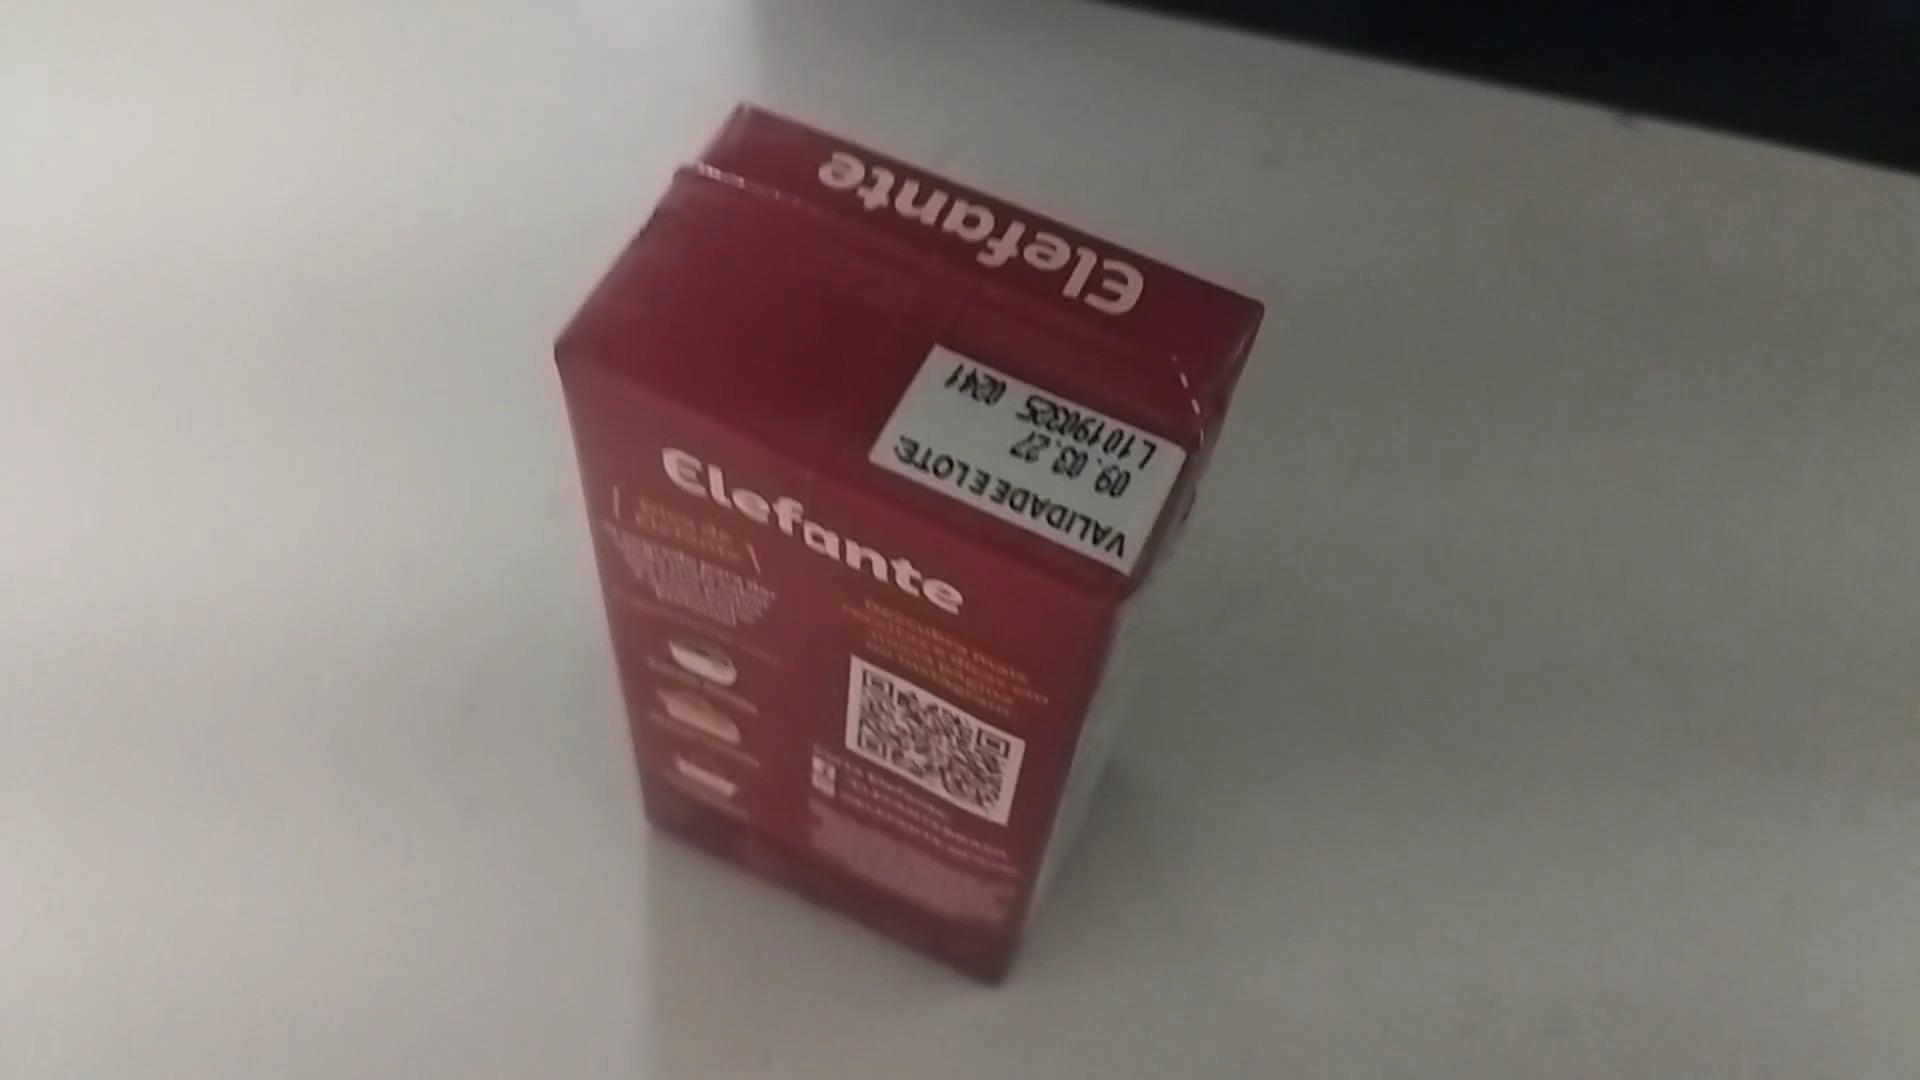tomate: (541, 103, 1273, 990)
